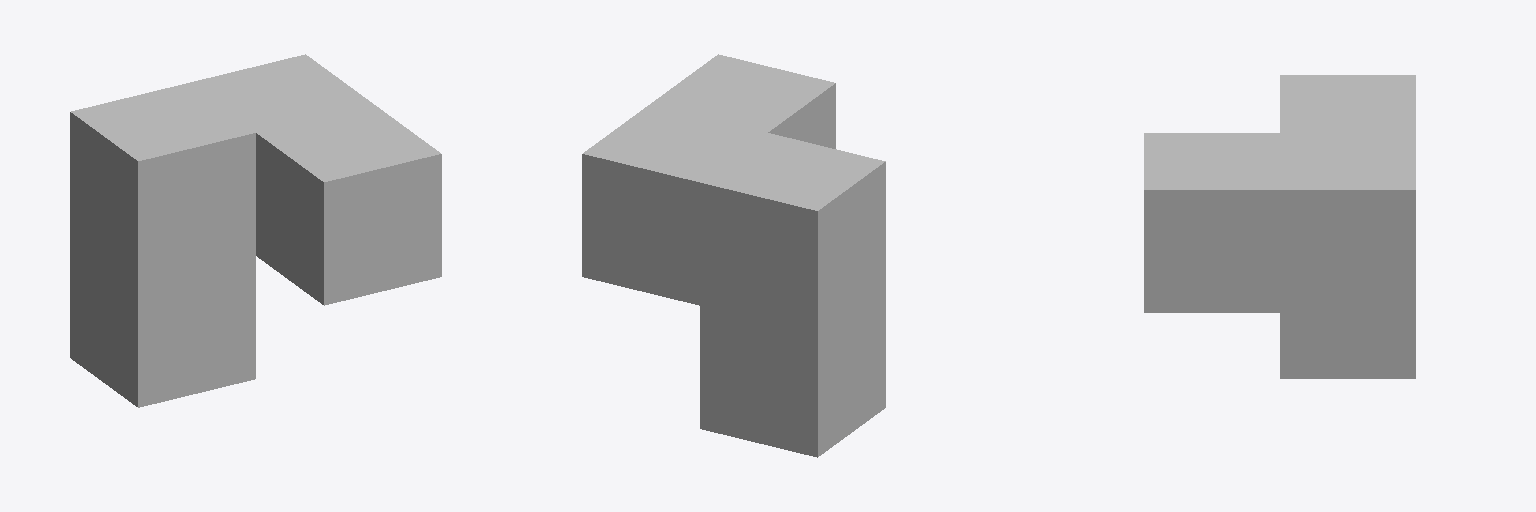
File: cube_structure_triangulated.obj
3 views of the same model, side by side, from view 1: azimuth 30°, elevation 25°; view 2: azimuth 150°, elevation 25°; view 3: azimuth 270°, elevation 25° (orthographic).
Parts seen in each view (by area): view 1: Cube_Cube.001; view 2: Cube_Cube.001; view 3: Cube_Cube.001.
Part boxes in pixels (x1,y1,x2,y2): Cube_Cube.001: (70,54,441,407); Cube_Cube.001: (582,54,885,457); Cube_Cube.001: (1144,75,1415,378).
Bounding box in the file's own units: 4 × 4 × 4.